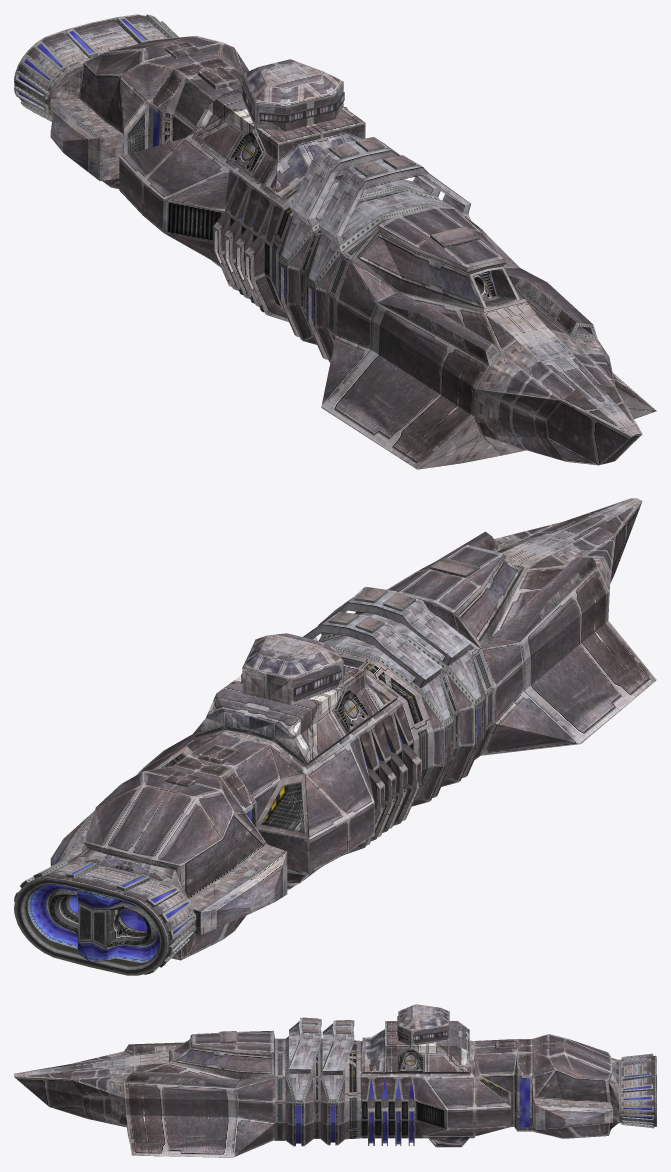
File: lib cruiser - placeholder.obj
The picture shows the model from 3 angles, top to bottom: view 1: azimuth 30°, elevation 25°; view 2: azimuth 150°, elevation 25°; view 3: azimuth 270°, elevation 25°; orthographic projection. The views are drawn at different scales.
Parts seen in each view (by area): view 1: Liberty_Corvette_Liberty_Corvette_Liberty1_256, Liberty_Corvette_Liberty_Corvette_Liberty2_256, Liberty_Corvette_Liberty_Corvette_Drd_interior3, Liberty_Corvette_Liberty_Corvette_Liberty3_256, Liberty_Corvette_Liberty_Corvette_equipment, Liberty_Corvette_Liberty_Corvette_exaust, Liberty_Corvette_Liberty_Corvette_Metal03, Liberty_Corvette_Liberty_Corvette_LR_Winds; view 2: Liberty_Corvette_Liberty_Corvette_Liberty1_256, Liberty_Corvette_Liberty_Corvette_Liberty2_256, Liberty_Corvette_Liberty_Corvette_Drd_interior3, Liberty_Corvette_Liberty_Corvette_equipment, Liberty_Corvette_Liberty_Corvette_exaust, Liberty_Corvette_Liberty_Corvette_Liberty3_256, Liberty_Corvette_Liberty_Corvette_Metal03; view 3: Liberty_Corvette_Liberty_Corvette_Liberty1_256, Liberty_Corvette_Liberty_Corvette_Liberty2_256, Liberty_Corvette_Liberty_Corvette_Drd_interior3, Liberty_Corvette_Liberty_Corvette_Liberty3_256, Liberty_Corvette_Liberty_Corvette_equipment, Liberty_Corvette_Liberty_Corvette_exaust, Liberty_Corvette_Liberty_Corvette_LR_Winds.
Part boxes in pixels (<box>): Liberty_Corvette_Liberty_Corvette_Liberty1_256: <box>14,14,656,469</box>; Liberty_Corvette_Liberty_Corvette_Liberty2_256: <box>79,49,497,314</box>; Liberty_Corvette_Liberty_Corvette_Drd_interior3: <box>124,103,526,362</box>; Liberty_Corvette_Liberty_Corvette_Liberty3_256: <box>163,67,363,308</box>; Liberty_Corvette_Liberty_Corvette_equipment: <box>14,14,597,365</box>; Liberty_Corvette_Liberty_Corvette_exaust: <box>18,19,313,321</box>; Liberty_Corvette_Liberty_Corvette_Metal03: <box>150,84,344,239</box>; Liberty_Corvette_Liberty_Corvette_LR_Winds: <box>241,85,344,123</box>; Liberty_Corvette_Liberty_Corvette_Liberty1_256: <box>31,498,656,964</box>; Liberty_Corvette_Liberty_Corvette_Liberty2_256: <box>181,560,520,899</box>; Liberty_Corvette_Liberty_Corvette_Drd_interior3: <box>152,554,526,934</box>; Liberty_Corvette_Liberty_Corvette_equipment: <box>14,590,483,975</box>; Liberty_Corvette_Liberty_Corvette_exaust: <box>26,708,478,963</box>; Liberty_Corvette_Liberty_Corvette_Liberty3_256: <box>242,635,413,777</box>; Liberty_Corvette_Liberty_Corvette_Metal03: <box>241,666,407,826</box>; Liberty_Corvette_Liberty_Corvette_Liberty1_256: <box>14,1004,656,1157</box>; Liberty_Corvette_Liberty_Corvette_Liberty2_256: <box>173,1017,610,1145</box>; Liberty_Corvette_Liberty_Corvette_Drd_interior3: <box>169,1017,533,1146</box>; Liberty_Corvette_Liberty_Corvette_Liberty3_256: <box>361,1007,449,1138</box>; Liberty_Corvette_Liberty_Corvette_equipment: <box>124,1020,656,1128</box>; Liberty_Corvette_Liberty_Corvette_exaust: <box>296,1059,656,1144</box>; Liberty_Corvette_Liberty_Corvette_LR_Winds: <box>397,1031,447,1040</box>.
Size of the model in its own units: 3.85 by 3.11 by 14.05.
8 materials, 8 textured.
